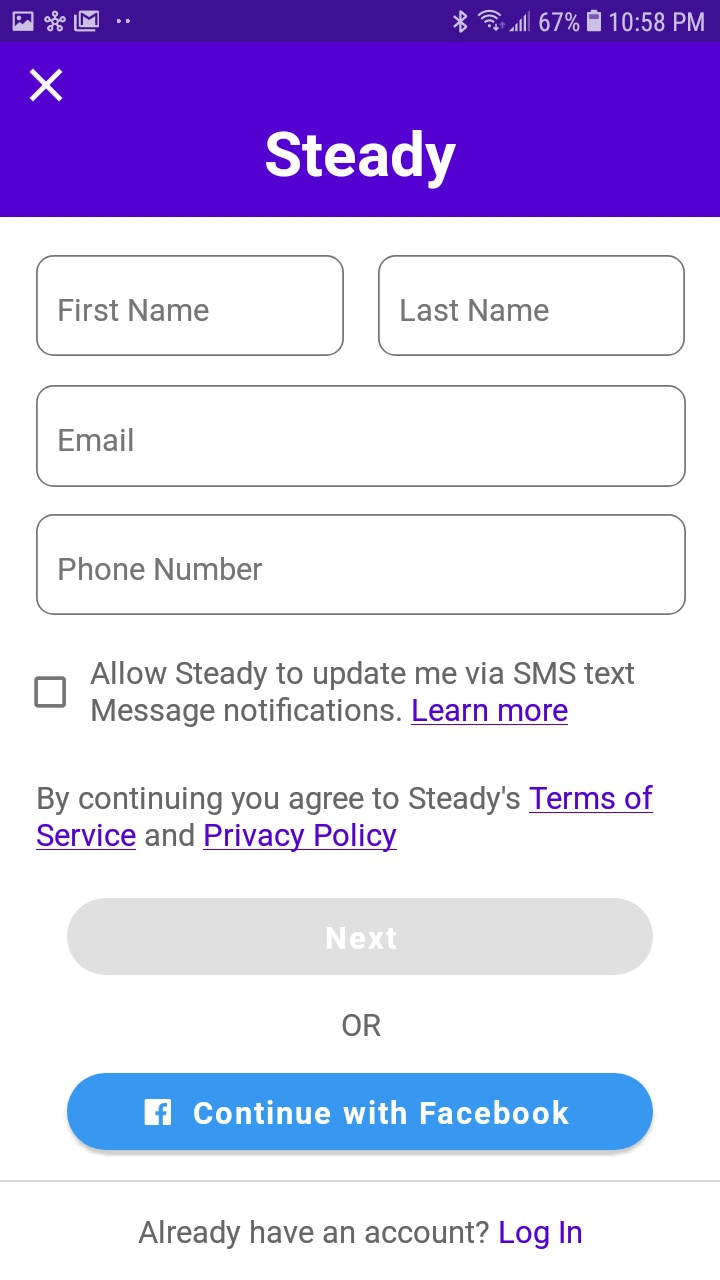CheckedTextView: (35, 661, 636, 728)
EditText: (36, 385, 686, 488), (36, 514, 686, 616), (37, 256, 345, 357), (378, 256, 685, 357)
Icon: (30, 69, 64, 103)
Text: (36, 784, 654, 853), (90, 661, 635, 728), (138, 1219, 582, 1250), (266, 130, 457, 191), (60, 557, 263, 581), (59, 299, 210, 323), (401, 299, 550, 323), (60, 428, 134, 452), (343, 1013, 382, 1037)
TextButton: (67, 1073, 654, 1151), (67, 898, 653, 976)
UpperTaskBar: (1, 1, 720, 43)
